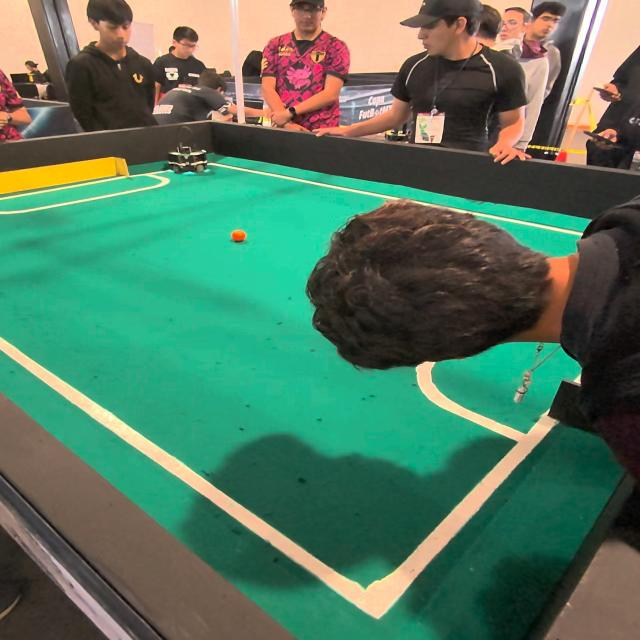Robot: (162, 123, 209, 176)
pelota: (228, 230, 248, 241)
